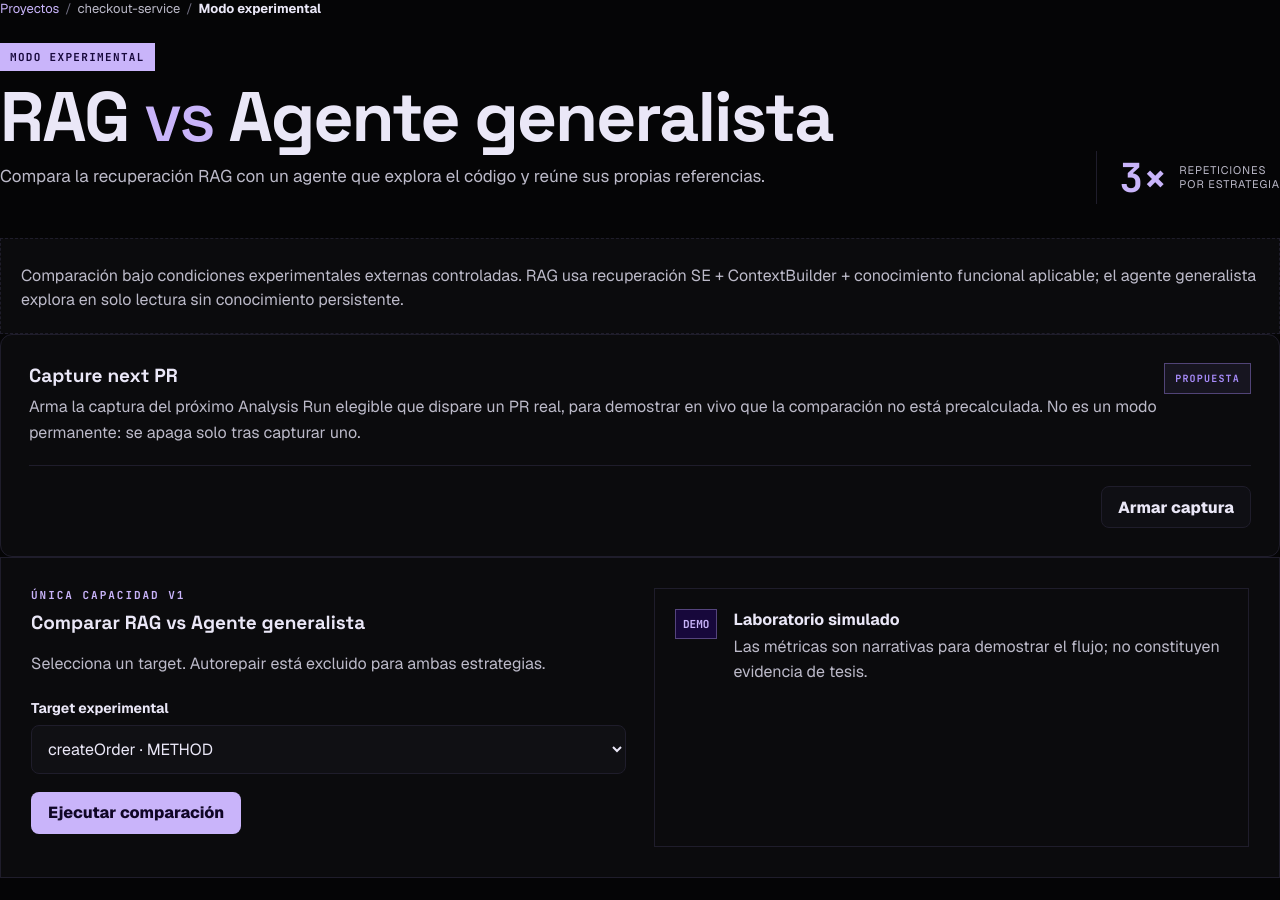
Test: WI-CONSOLE-017: la descarga de evidencia no aparece mientras el experimento corre y sí al completarse
This screenshot has width=1280, height=900.
Click the button "Ejecutar comparación" at {"x": 136, "y": 813}, box [31,792,241,834]
(page scrolled)
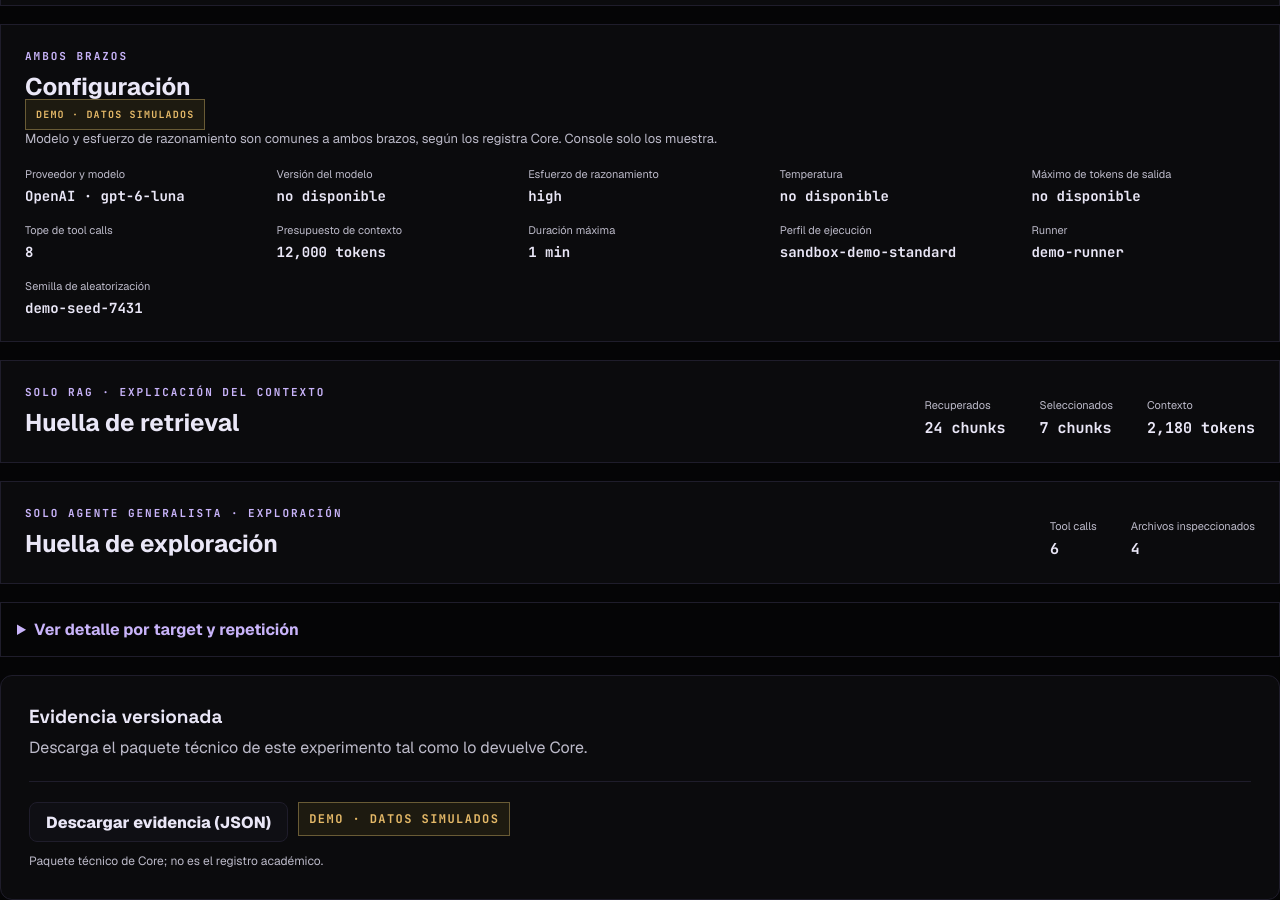
Expected: the heading "Huella de retrieval" is shown, [25,408,239,438]
Expected: the button "Descargar evidencia (JSON)" is shown, [29,802,288,842]
